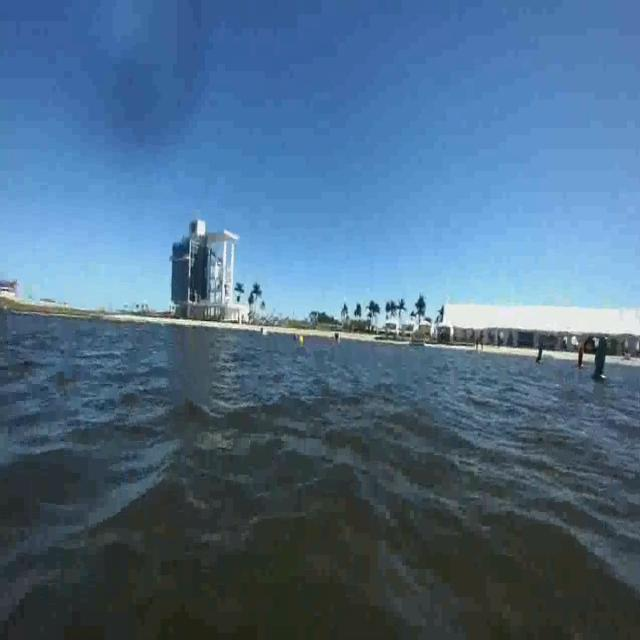green-column-buoy: (591, 334, 611, 382)
red-column-buoy: (575, 340, 587, 371)
yellow-buoy: (298, 336, 304, 347)
